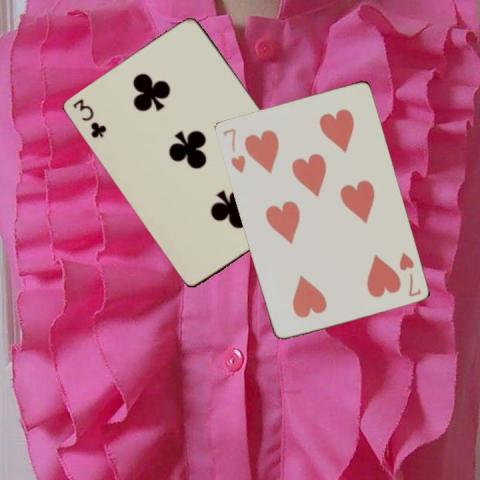3c: (71, 96, 108, 139)
7h: (219, 125, 247, 175), (395, 249, 423, 298)
